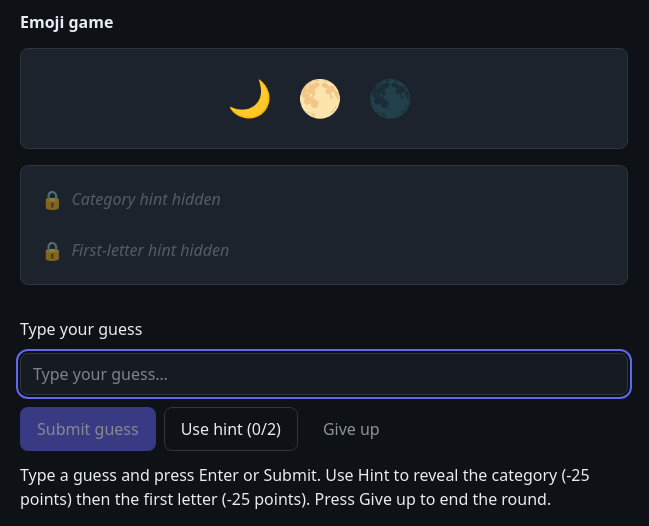
Scenario: EmojiGame — hints › reveals the first letter on second hint use (-25)
This screenshot has width=649, height=526.
Click the button "Use hint (0/2)". click: (231,429)
box: [164,407,298,451]
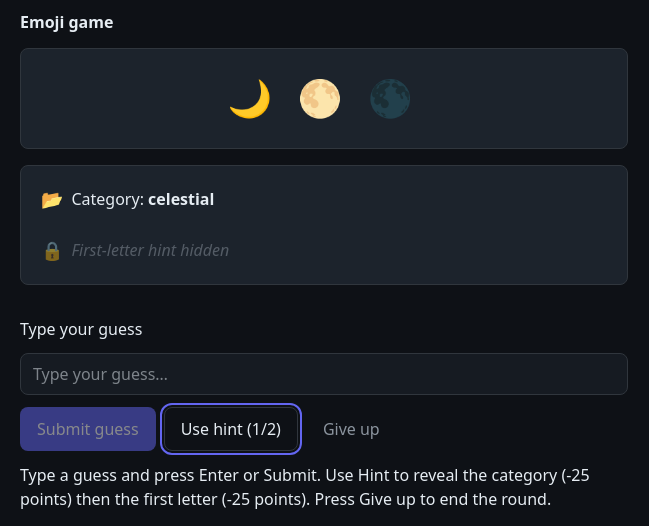
Click the button "Use hint (1/2)". click: (231,429)
box: [164,407,298,451]
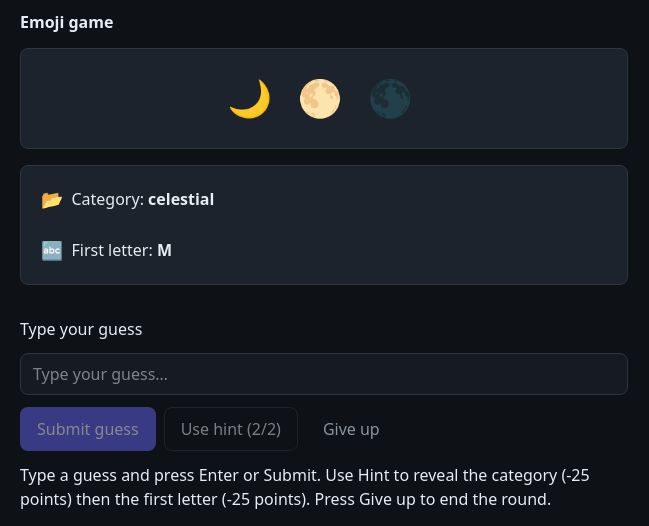
Now the text "M" is shown, box [157,239,172,261]
Now the button "Use hint (2/2)" is disabled, box [164,407,298,451]
